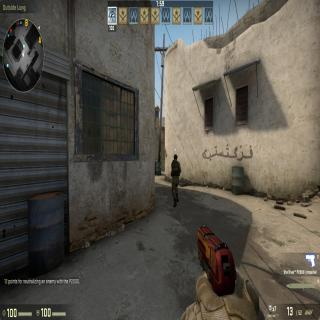CT-Body: (171, 153, 181, 207)
CT-Head: (172, 153, 178, 161)
